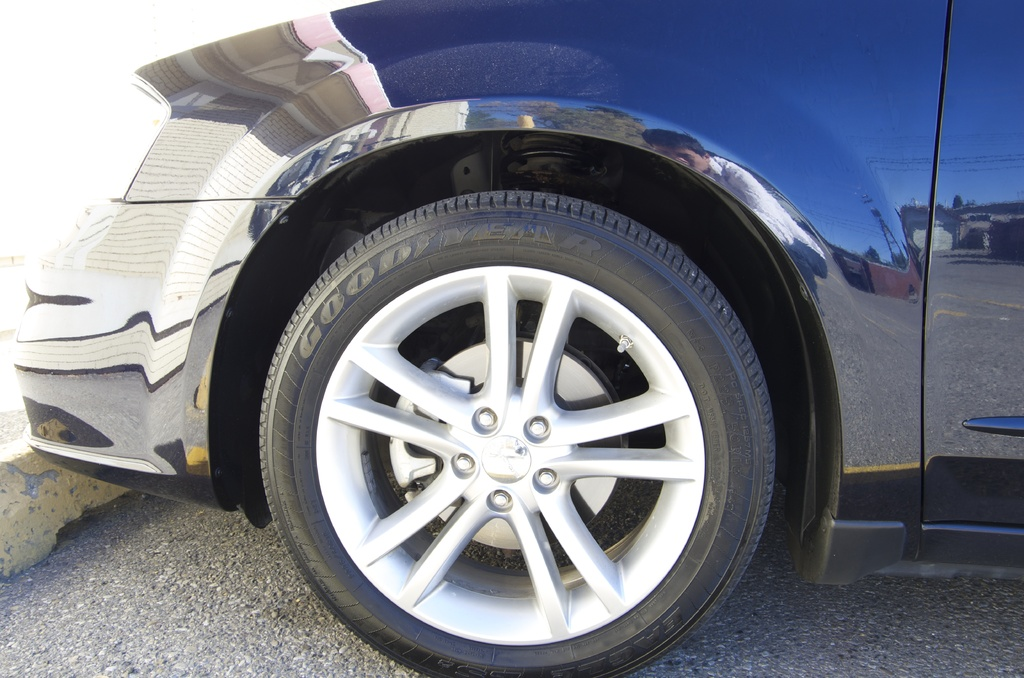cars: (13, 0, 1023, 677)
